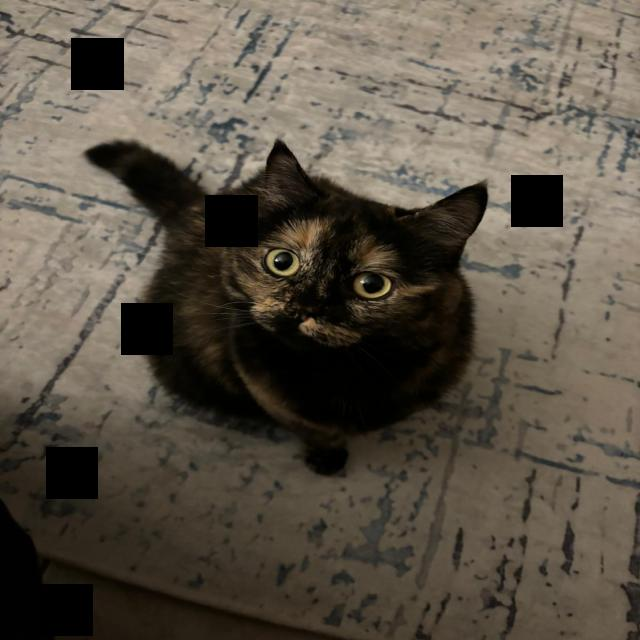authorized: (82, 136, 490, 477)
